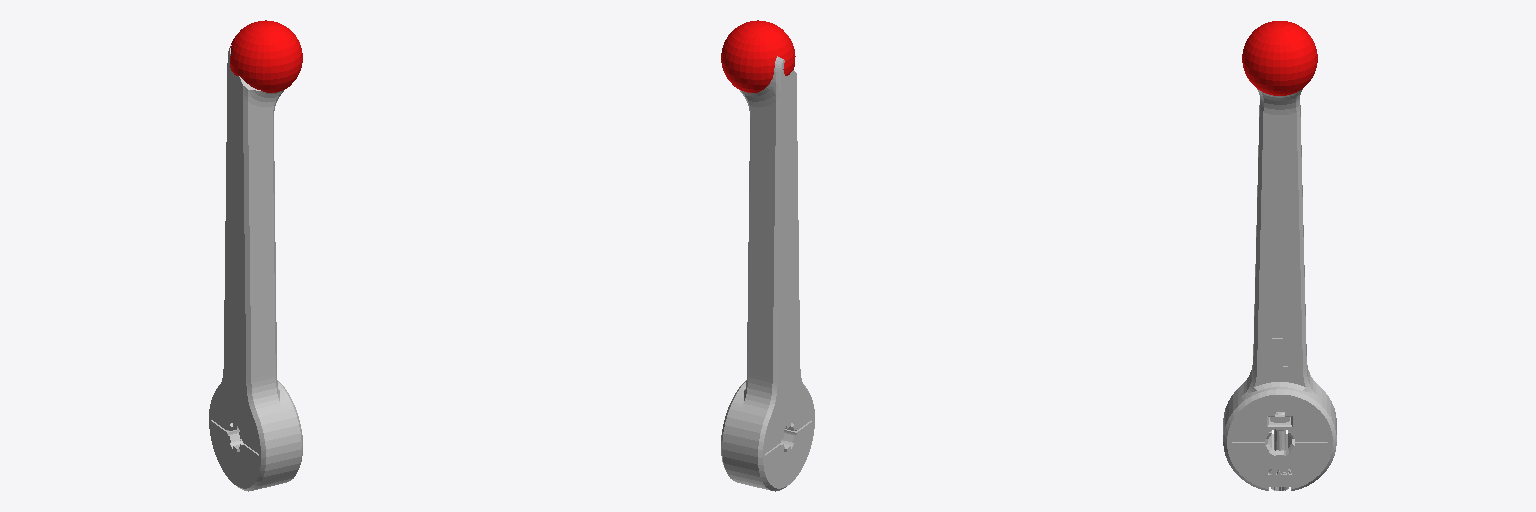
robot.urdf — pupper_arm:
<?xml version="1.0"?>
<!-- created with Phobos 1.0.1 "Capricious Choutengan" -->
  <robot name="pupper_arm">
    <link name="base">
      <inertial>
        <origin xyz="0 0 0" rpy="0 0 0"/>
        <mass value="0.200"/>
        <inertia ixx="1e-03" ixy="0" ixz="0" iyy="1e-03" iyz="0" izz="1e-03"/>
      </inertial>
      <visual name="Base">
        <origin xyz="0 0 -0.032" rpy="0 0 0"/>
        <geometry>
          <mesh filename="meshes/3dof_base.obj" scale="0.001 0.001 0.001"/>
        </geometry>
        <material name="PupperMaterial"/>
      </visual>
    </link>

    <link name="leftFrontLeg">
      <inertial>
        <origin xyz="0.0139 0.0254 0" rpy="0 0 0"/>
        <mass value="0.106"/>
        <inertia ixx="2e-05" ixy="0" ixz="0" iyy="6e-05" iyz="0" izz="6e-05"/>
      </inertial>
      <visual name="Hip_L">
        <origin xyz="0 0 0" rpy="0 0 0"/>
        <geometry>
          <mesh filename="meshes/Hip_L.obj" scale="1.0 1.0 1.0"/>
        </geometry>
        <material name="PupperMaterial"/>
      </visual>
      <collision name="Hip L">
        <origin xyz="0.0235 0.0265 0" rpy="1.5708 0 -1.5708"/>
        <geometry>
          <cylinder radius="0.015" length="0.075"/>
        </geometry>
      </collision>
    </link>

    <link name="leftFrontLowerLeg">
      <inertial>
        <origin xyz="0.00558 -0.00075 -0.0658" rpy="0 0 0"/>
        <mass value="0.038"/>
        <inertia ixx="0.00018" ixy="0" ixz="0" iyy="0.00018" iyz="0" izz="2e-05"/>
      </inertial>
      <visual name="Lower_Leg_L">
        <origin xyz="0 0 0" rpy="0 0 0"/>
        <geometry>
          <mesh filename="meshes/Lower_Leg_L.obj" scale="1.0 1.0 1.0"/>
        </geometry>
        <material name="PupperMaterial"/>
      </visual>
      <collision name="Lower Leg L">
        <origin xyz="0.00699 0 -0.05223" rpy="0 0 0"/>
        <geometry>
          <box size="0.00951 0.012 0.10758"/>
        </geometry>
      </collision>
    </link>

    <link name="leftFrontToe">
      <inertial>
        <origin xyz="0 0 0" rpy="0 0 0"/>
        <mass value="0.0001"/>
        <inertia ixx="2e-05" ixy="0" ixz="0" iyy="2e-05" iyz="0" izz="2e-05"/>
      </inertial>
      <visual>
        <origin rpy="0.00000 -0.00000 0.00000" xyz="0.00 0.00000 0.000"/>
        <geometry>
          <sphere radius="0.01"/>
        </geometry>
        <material name="red">
          <color rgba="1.00000 .100000 .100000 1.00000" />
        </material>
		  </visual>
      <collision name="Sphere.003">
        <origin xyz="0 0 0" rpy="0 0 0"/>
        <geometry>
          <sphere radius="0.0095"/>
        </geometry>
      </collision>
    </link>

    <link name="leftFrontUpperLeg">
      <inertial>
        <origin xyz="0.0172 0 -0.061" rpy="0 0 0"/>
        <mass value="0.142"/>
        <inertia ixx="0.00014" ixy="0" ixz="0" iyy="0.00016" iyz="0" izz="3e-05"/>
      </inertial>
      <visual name="Upper_Leg_-_Pupper_2.1_v57">
        <origin xyz="0 0 0" rpy="0 0 0"/>
        <geometry>
          <mesh filename="meshes/Upper_Leg_-_Pupper_2.1_v57.obj" scale="1.0 1.0 1.0"/>
        </geometry>
        <material name="PupperMaterial"/>
      </visual>
      <collision name="Upper Leg - Pupper 2.1 v57">
        <origin xyz="0.0169 0 -0.08" rpy="1.5708 0 1.5708"/>
        <geometry>
          <cylinder radius="0.015" length="0.065"/>
        </geometry>
      </collision>
    </link>

   

    <joint name="leftFrontLowerLegMotor" type="revolute">
      <origin xyz="-0.004 0 -0.08" rpy="0 0 3.14159"/>
      <parent link="leftFrontUpperLeg"/>
      <child link="leftFrontLowerLeg"/>
      <axis xyz="-1.0 0 0"/>
      <limit lower="-6" upper="6" effort="0" velocity="0"/>
    </joint>

    <joint name="leftFrontToe" type="floating">
      <origin xyz="0.002 0 -0.11" rpy="0 0 -3.14159"/>
      <parent link="leftFrontLowerLeg"/>
      <child link="leftFrontToe"/>
    </joint>

    <joint name="leftFrontUpperLegMotor" type="revolute">
      <origin xyz="0.0395 0.0265 0" rpy="1.5708 0 0"/>
      <parent link="leftFrontLeg"/>
      <child link="leftFrontUpperLeg"/>
      <axis xyz="1.0 0 0"/>
      <limit lower="-0.8" upper="6" effort="0" velocity="0"/>
    </joint>

    <joint name="baseMotor" type="revolute">
      <origin xyz="0 0 -0.025" rpy="1.5708 0 0"/>
      <parent link="base"/>
      <child link="leftFrontLeg"/>
      <axis xyz="0 -1.0 0"/>
      <limit lower="-6" upper="6" effort="0" velocity="0"/>
    </joint>

    <material name="PupperMaterial">
      <color rgba="0.8 0.8 0.8 1.0"/>
    </material>

  </robot>

--- Facts derived from the render (not from the file) ---
Views: 3 orthographic renders of the robot side by side, from view 1: azimuth 30°, elevation 25°; view 2: azimuth 150°, elevation 25°; view 3: azimuth 270°, elevation 25°.
Model pupper_arm with 5 links and 4 joints (3 revolute, 1 floating), rooted at base, posed every joint at zero.
Links seen in each view (by area): view 1: leftFrontLowerLeg, leftFrontToe; view 2: leftFrontLowerLeg, leftFrontToe; view 3: leftFrontLowerLeg, leftFrontToe.
Boxes of the visible links, <box> form: leftFrontLowerLeg: <box>209,45,302,491</box>; leftFrontToe: <box>230,20,302,92</box>; leftFrontLowerLeg: <box>721,56,814,491</box>; leftFrontToe: <box>721,20,795,92</box>; leftFrontLowerLeg: <box>1223,89,1336,490</box>; leftFrontToe: <box>1242,21,1317,95</box>.
Bounding box of the posed robot: 0.02 × 0.03 × 0.135 m (x, y, z).
1 mesh visuals loaded from 4 distinct referenced files (1 OBJ); not drawn: 3 (reference not matched to a file when rendering).